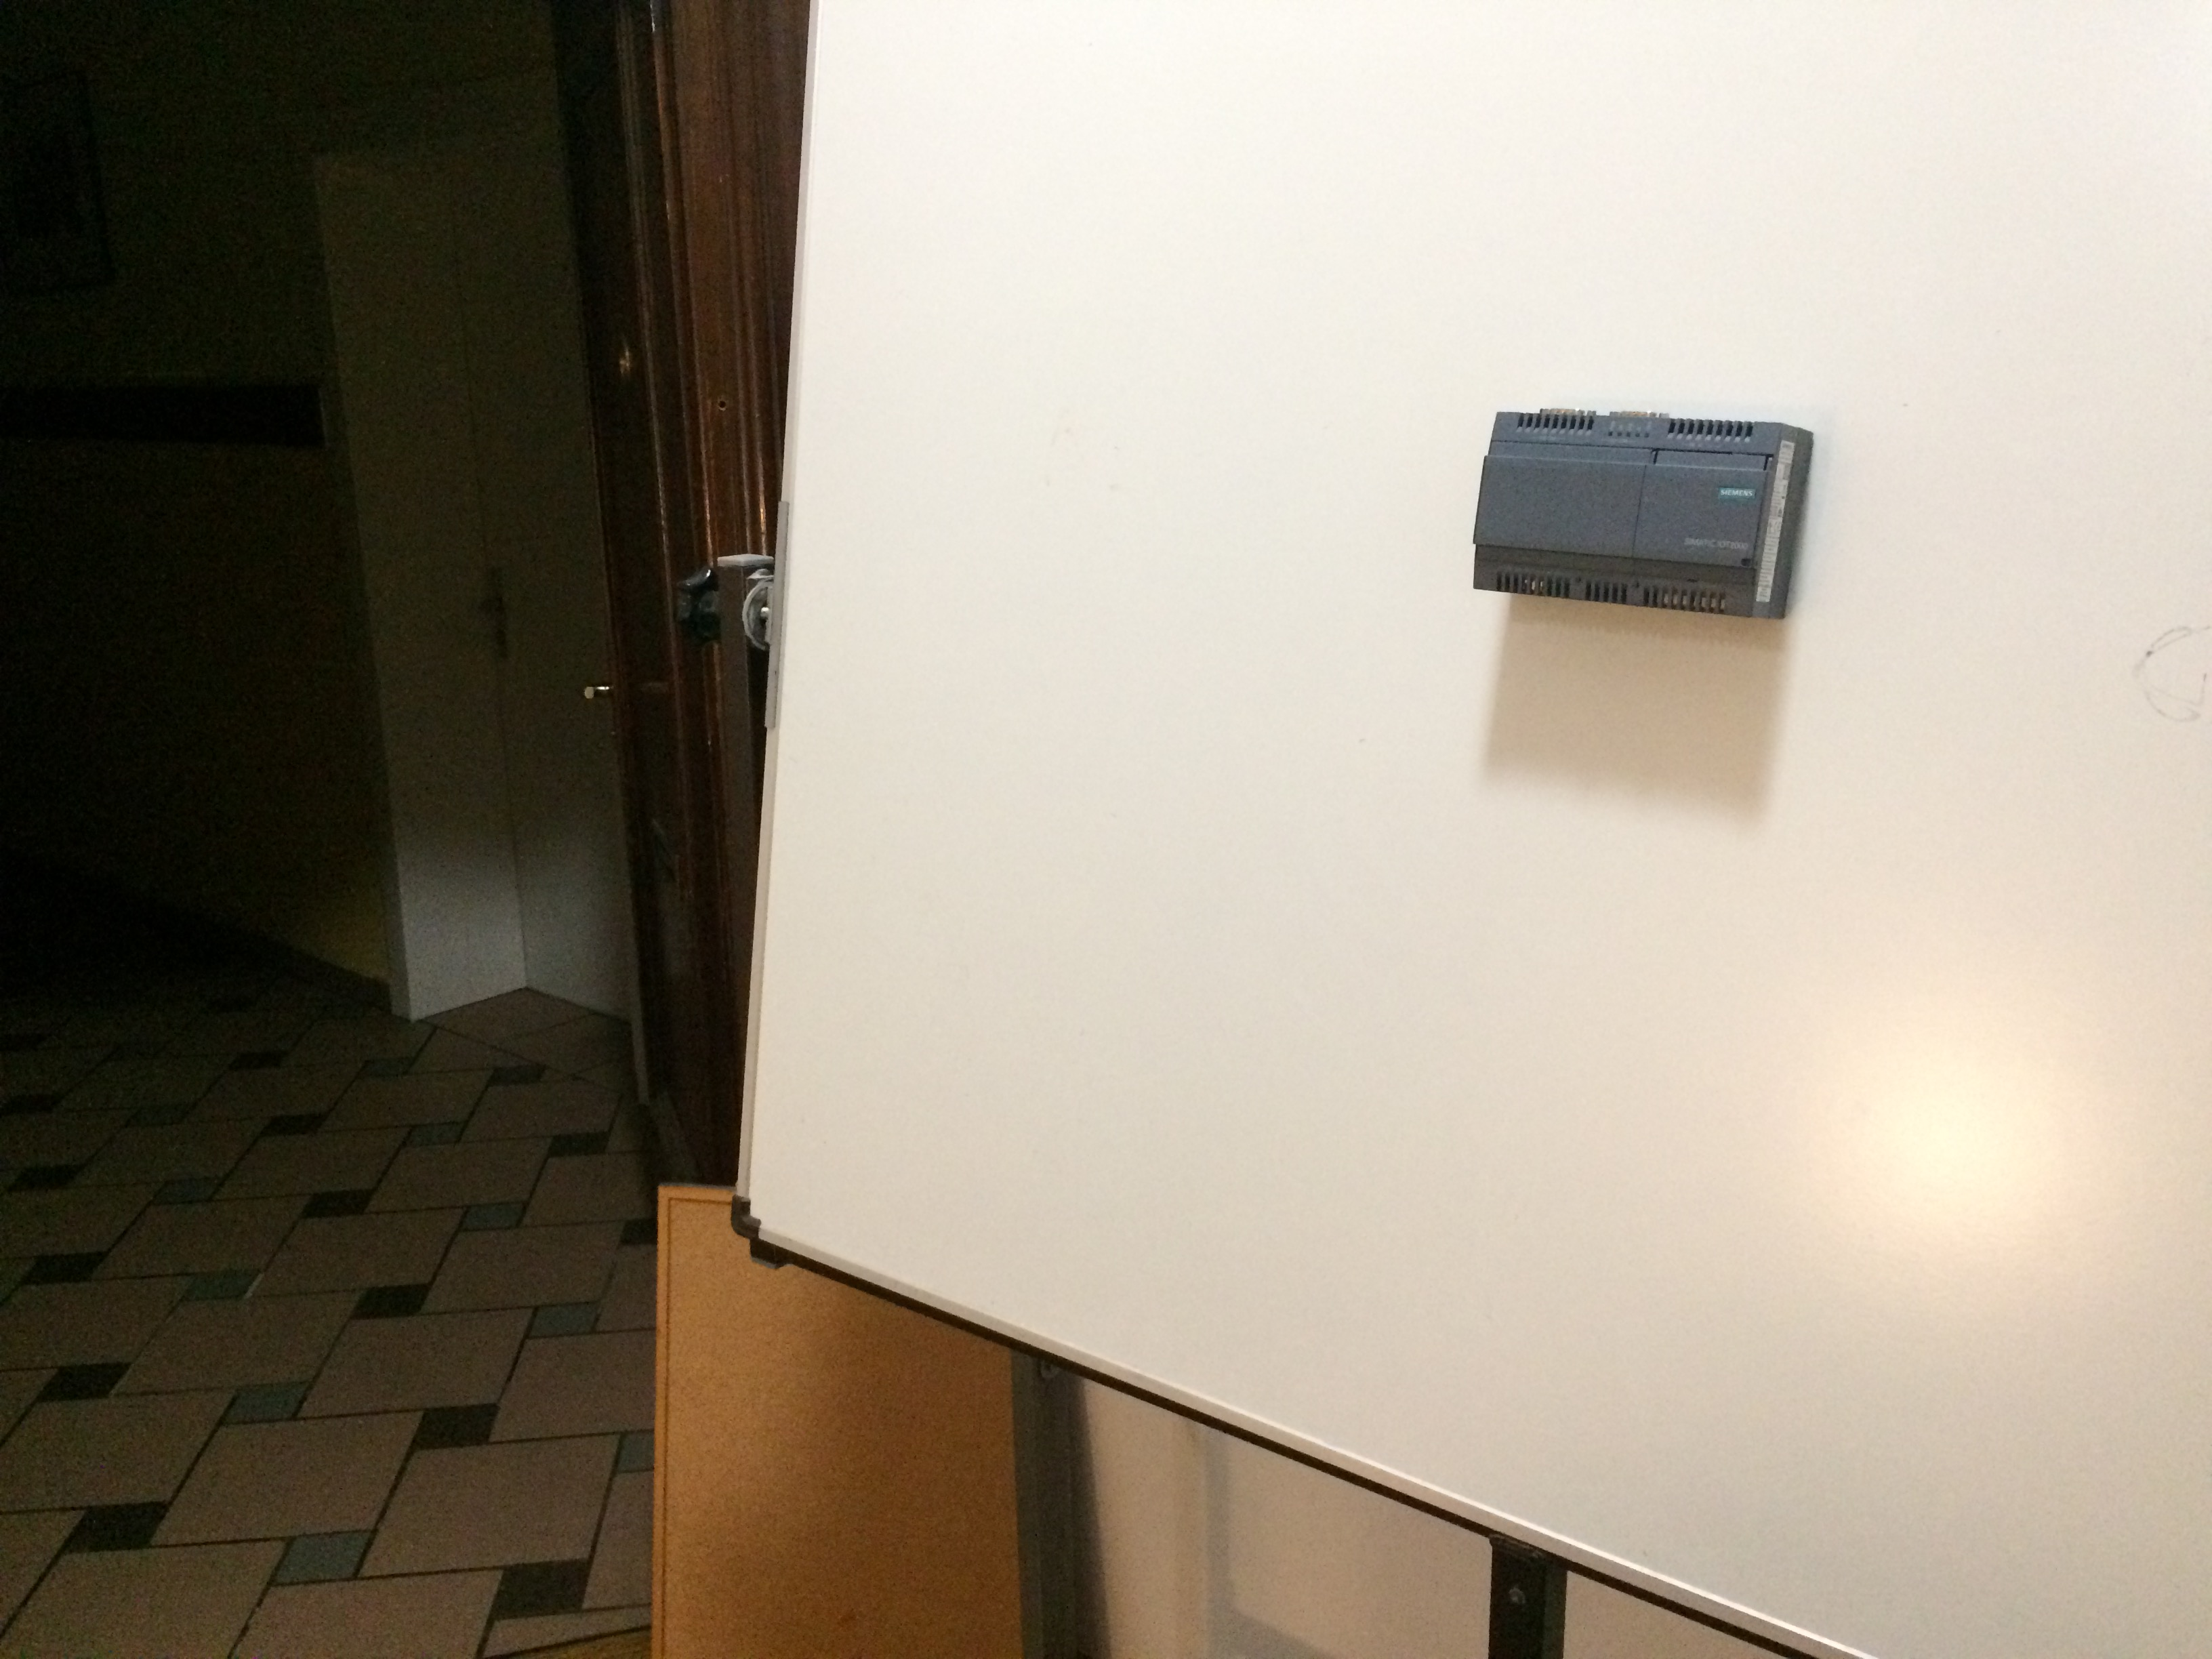iot2000: (1470, 404, 1818, 627)
